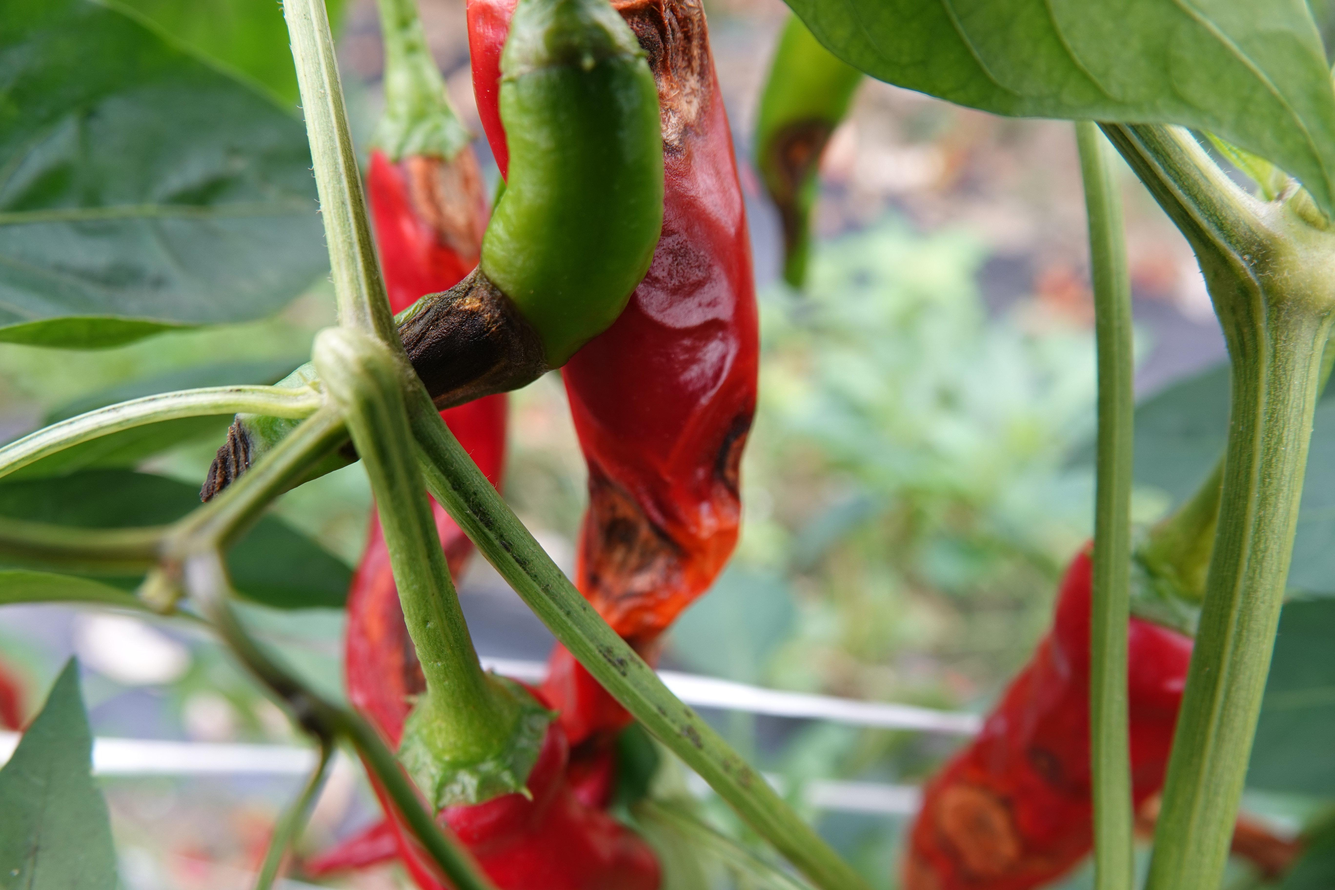Busuk Buah Antraknosa: (198, 15, 660, 509), (464, 1, 762, 752), (898, 533, 1194, 890)
